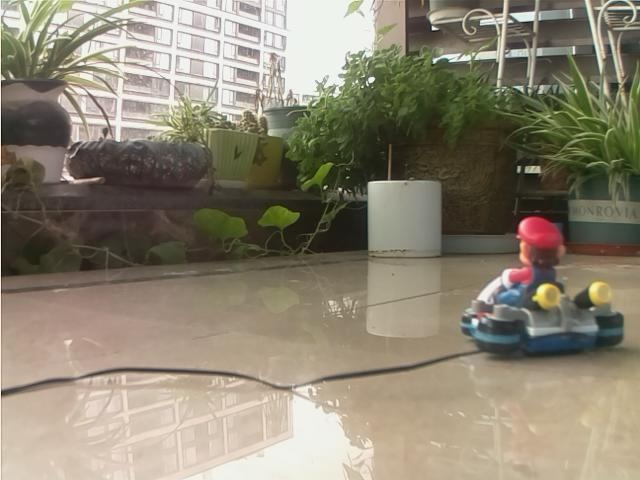mario: (456, 200, 633, 367)
